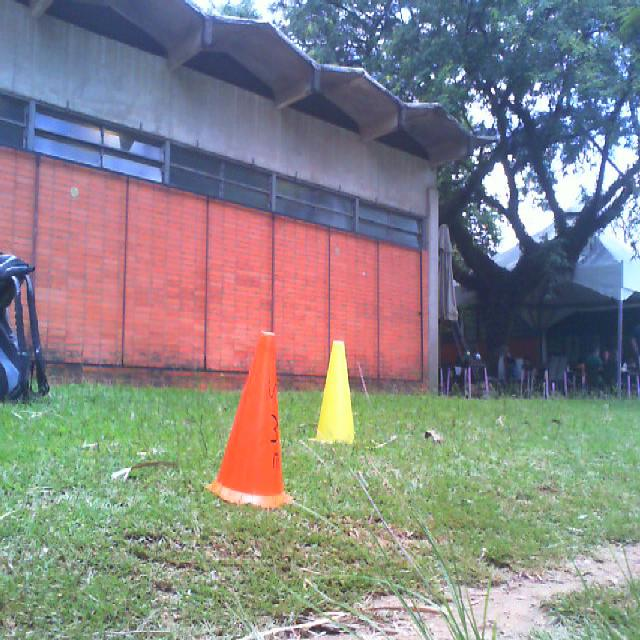cone: (212, 330, 284, 507), (316, 340, 354, 444)
